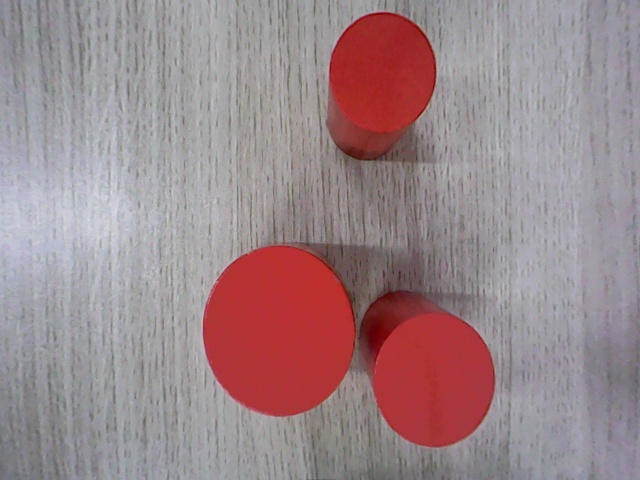upside of cylinder: (203, 246, 358, 418), (373, 313, 495, 447), (330, 12, 437, 131)
